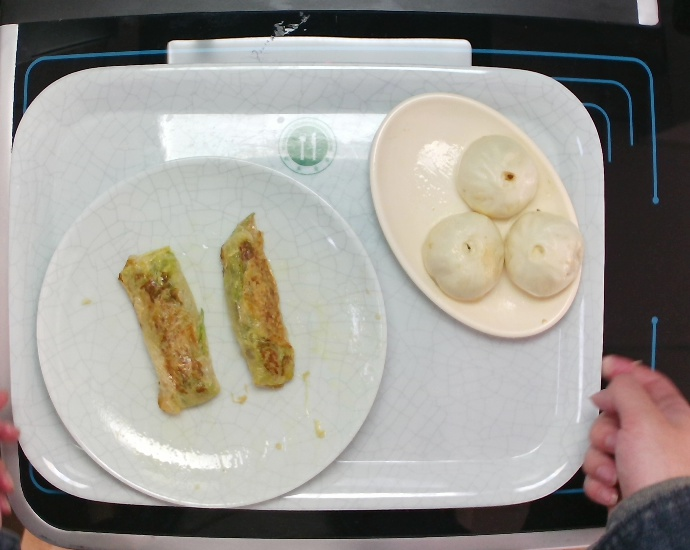JYsf-Da_Yuan_Pan: (35, 159, 389, 511)
JYsf-Tuo_Yuan_Wan: (366, 88, 584, 343)
